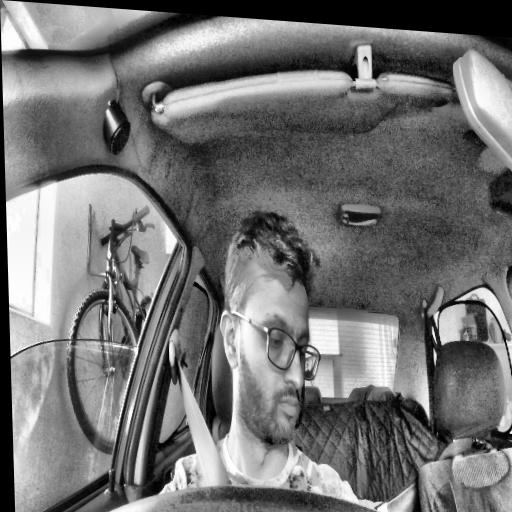awake: (215, 210, 323, 451)
